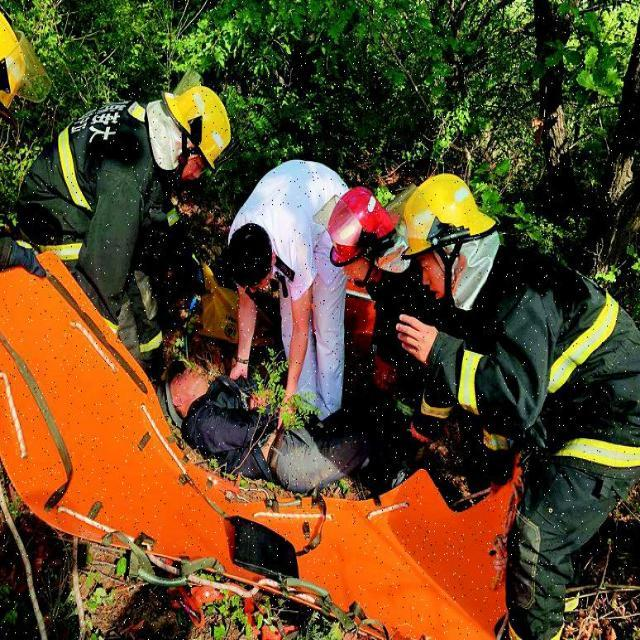fall: (158, 368, 390, 480)
